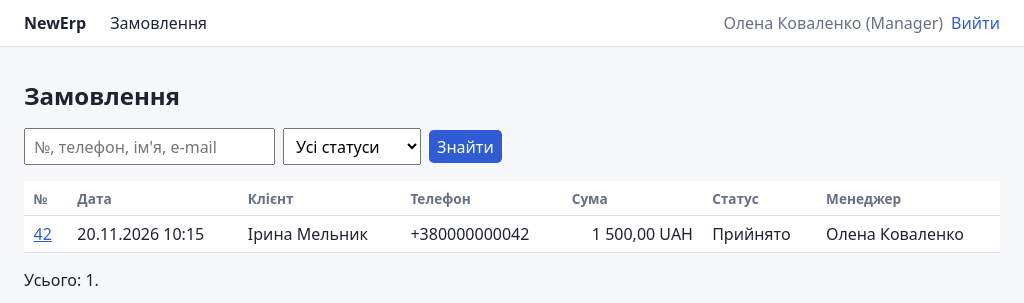
Test: orders › filters by the search text
Expected: the link "42" is shown, [34,223,52,245]
Type "Шевчук" into the field named "Пошук" at (150, 147), box [24,128,275,165]
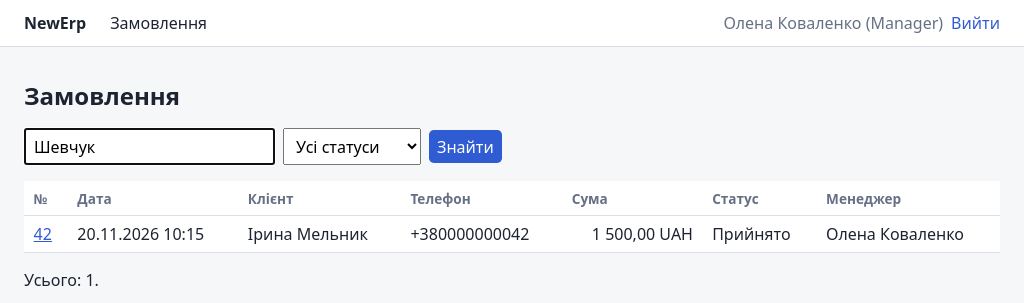
Click the button "Знайти" at (465, 147), box [429,130,502,163]
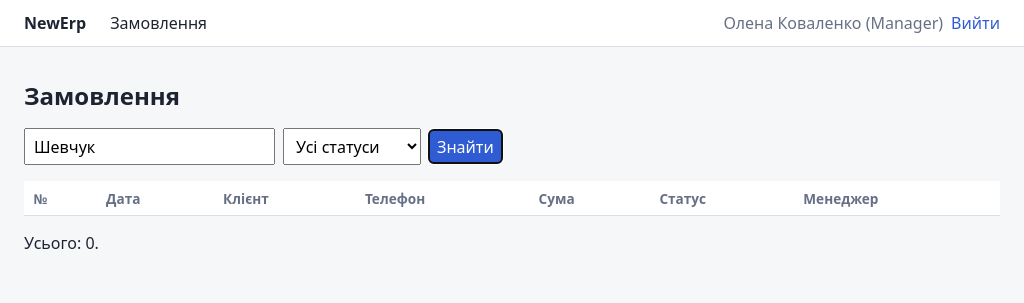
Expected: the text "Усього: 0." is shown, [24,232,99,254]
